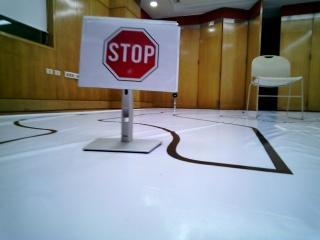stop: (96, 19, 167, 88)
